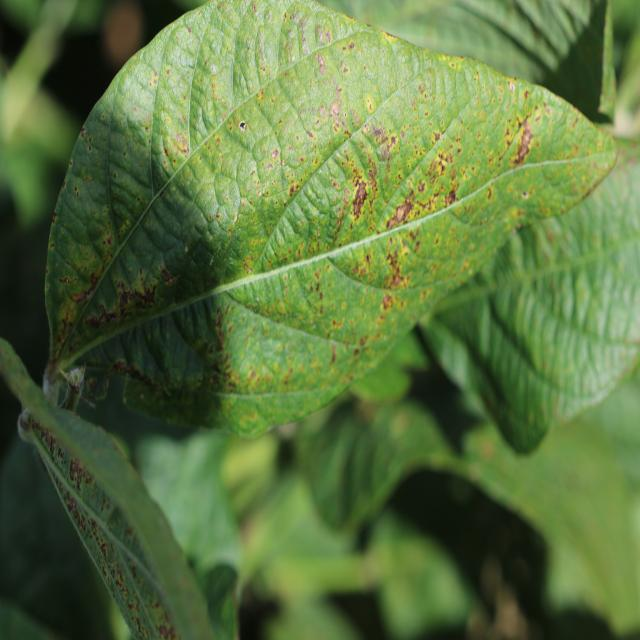Bacterial_Blight: (377, 187, 481, 276), (466, 552, 539, 638), (552, 157, 627, 217), (100, 353, 175, 392), (61, 481, 96, 540), (210, 305, 232, 363), (511, 120, 537, 166), (383, 246, 408, 286), (86, 301, 121, 329), (386, 195, 413, 229), (353, 179, 371, 224), (68, 455, 86, 490), (170, 129, 189, 157), (67, 366, 85, 390), (159, 266, 177, 287), (444, 183, 459, 207), (256, 35, 266, 71), (113, 567, 126, 593), (18, 408, 31, 433), (157, 622, 174, 640), (379, 141, 393, 162), (47, 433, 58, 459), (328, 100, 342, 119), (315, 54, 327, 72), (255, 89, 266, 107), (365, 95, 376, 113), (329, 343, 337, 365), (317, 25, 326, 43), (289, 182, 299, 197), (58, 276, 72, 285), (163, 146, 171, 161), (271, 148, 280, 160), (418, 181, 426, 193), (433, 132, 441, 143), (239, 121, 247, 132), (51, 211, 58, 223), (319, 104, 326, 116), (509, 81, 516, 92), (211, 64, 218, 75), (336, 219, 342, 231), (251, 2, 257, 14), (80, 128, 87, 138), (390, 136, 397, 146), (267, 162, 274, 172), (301, 180, 309, 188), (348, 41, 355, 50), (522, 190, 529, 199), (307, 130, 314, 139), (419, 84, 425, 94), (74, 186, 79, 197), (186, 26, 192, 34), (400, 130, 406, 138), (215, 212, 220, 221), (153, 71, 158, 80), (246, 267, 252, 274), (107, 238, 112, 246), (88, 144, 93, 152), (133, 105, 138, 113), (184, 246, 189, 253), (144, 126, 149, 132)
Soybean: (45, 0, 616, 433)
